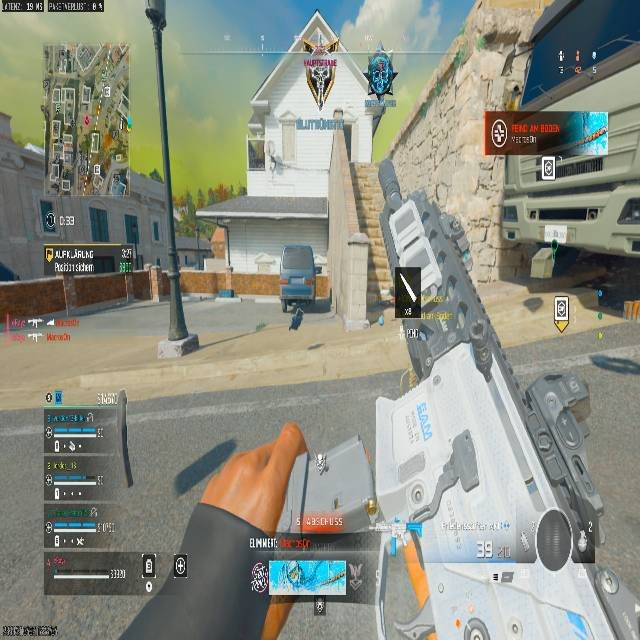player: (363, 45, 397, 103), (287, 301, 304, 331)
